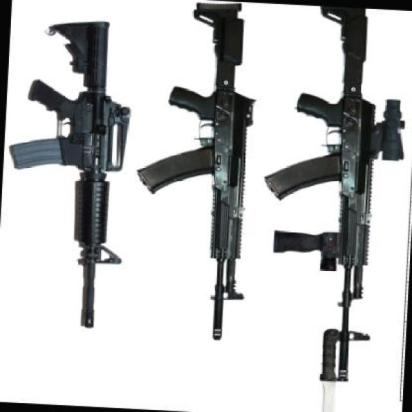Gun: (264, 5, 406, 383), (137, 2, 255, 342), (8, 20, 131, 330)
